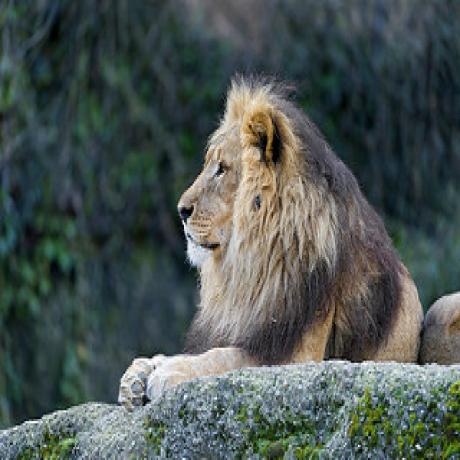Lion: (110, 69, 424, 399)
